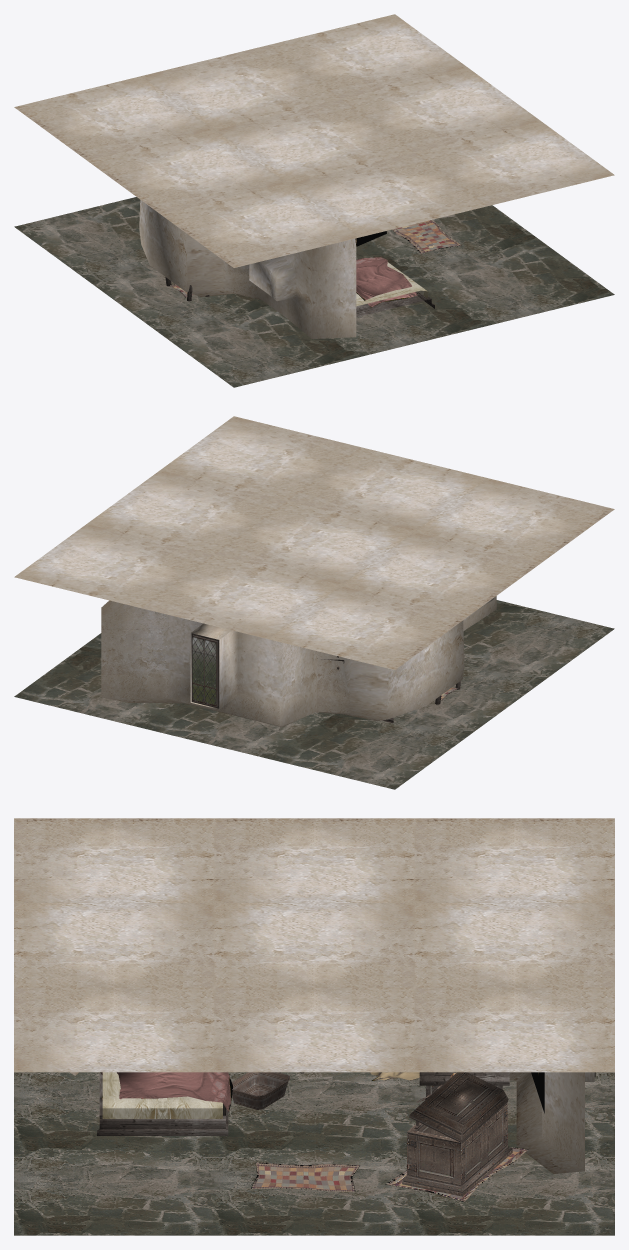
The model's file is rook_room.glb.
3 renders of one model, top to bottom at view 1: azimuth 30°, elevation 25°; view 2: azimuth 150°, elevation 25°; view 3: azimuth 270°, elevation 25°, orthographic. The views are drawn at different scales.
Visible parts, largest first — view 1: FModMeshpart 001; view 2: FModMeshpart 001; view 3: FModMeshpart 001.
Part boxes in pixels (<box>): FModMeshpart 001: <box>14,14,614,387</box>; FModMeshpart 001: <box>14,416,614,789</box>; FModMeshpart 001: <box>14,818,614,1235</box>.
Bounding box in the file's own units: 10 × 3.01 × 10.
Materials: 6 (6 with a texture image).
